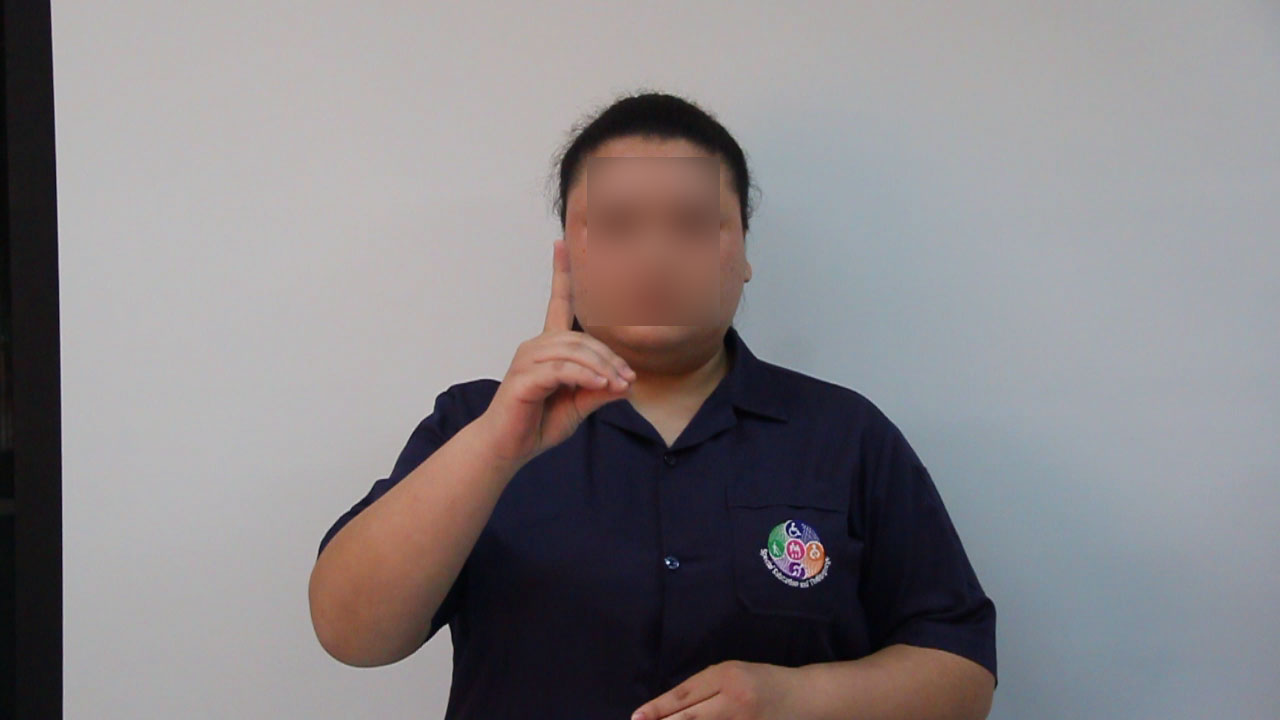dor: (477, 232, 643, 470)
